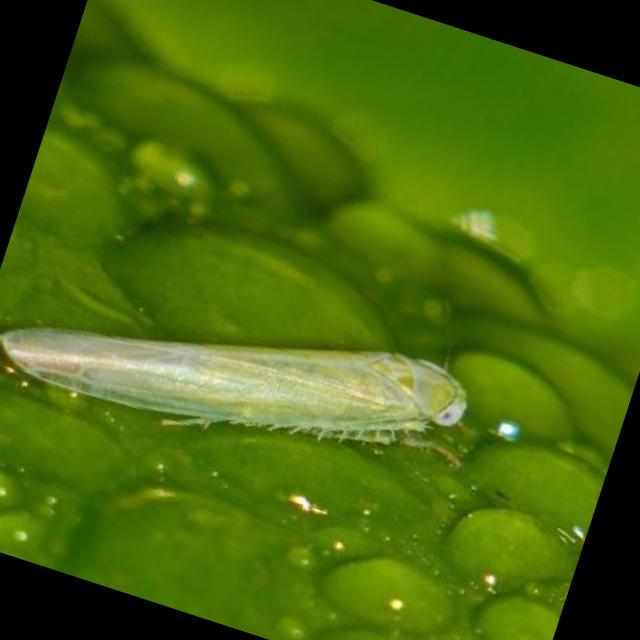green-leafhopper: (0, 319, 473, 438)
